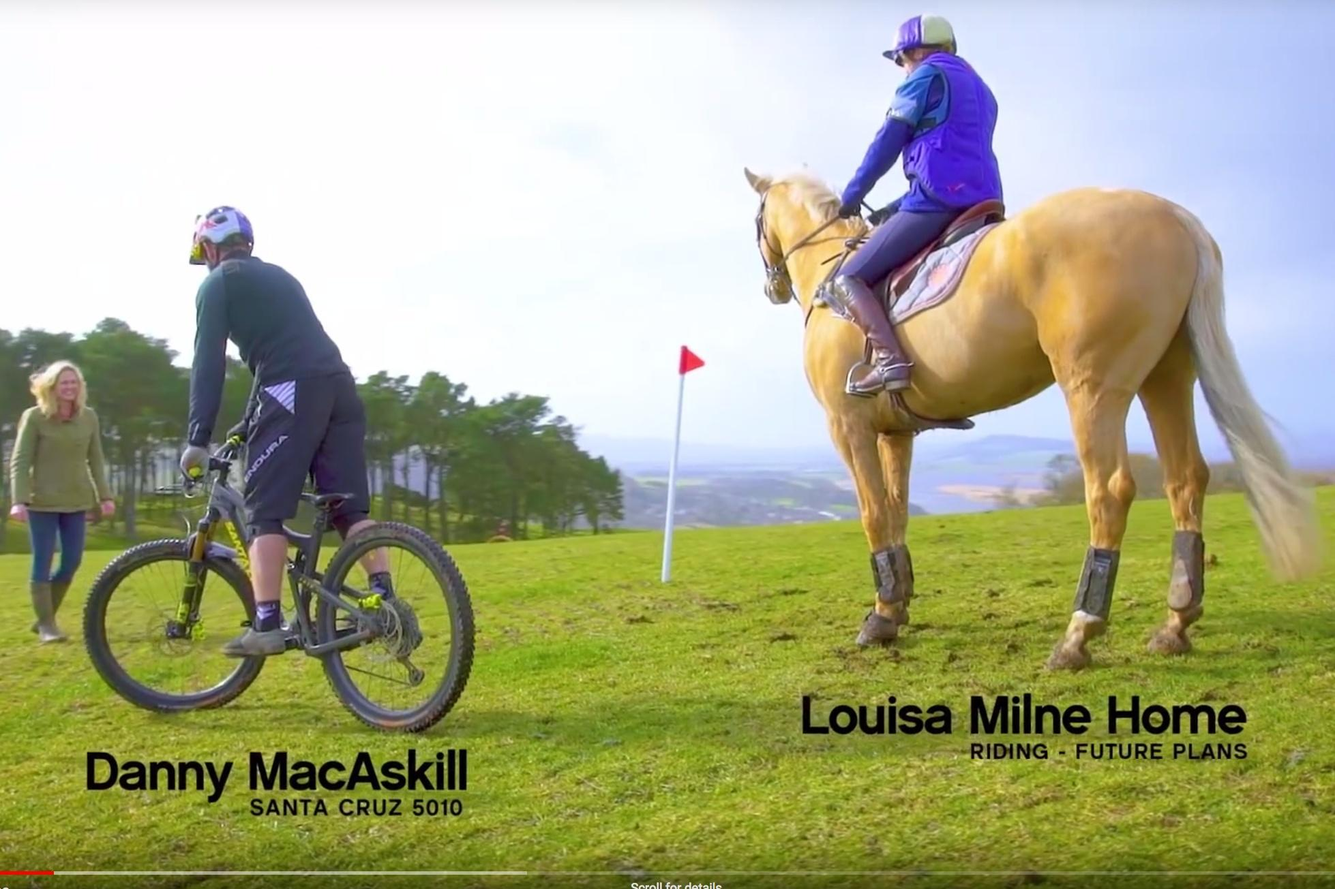horse: (728, 154, 1335, 677)
